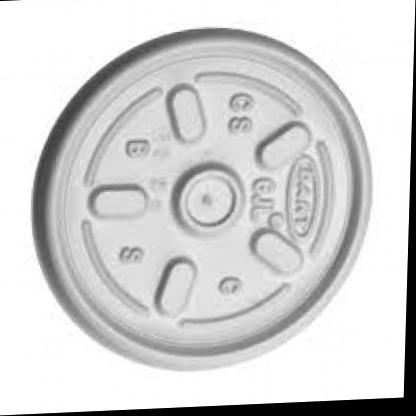Miscellaneous: (18, 9, 379, 402)
